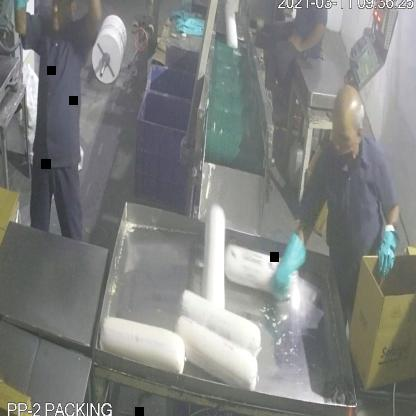glove: (264, 218, 311, 309), (370, 212, 403, 283)
no_glove: (284, 21, 328, 60)
